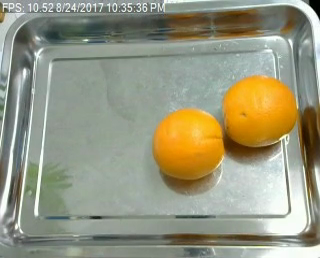Orange: (222, 75, 299, 147), (153, 110, 222, 179)
